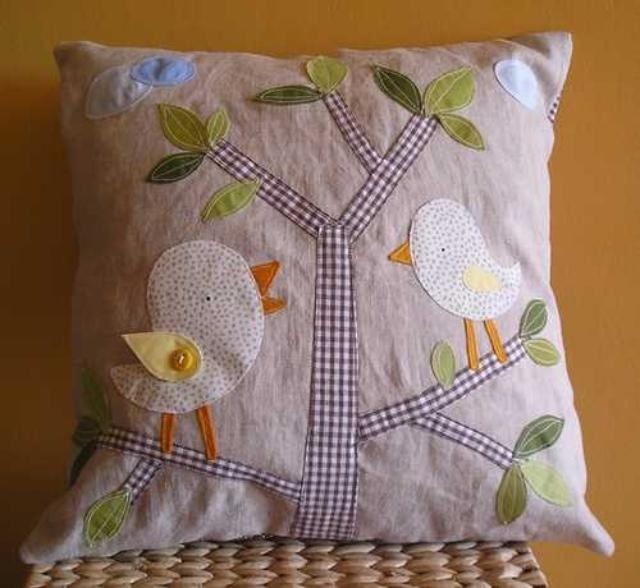pillow: (32, 29, 614, 564)
